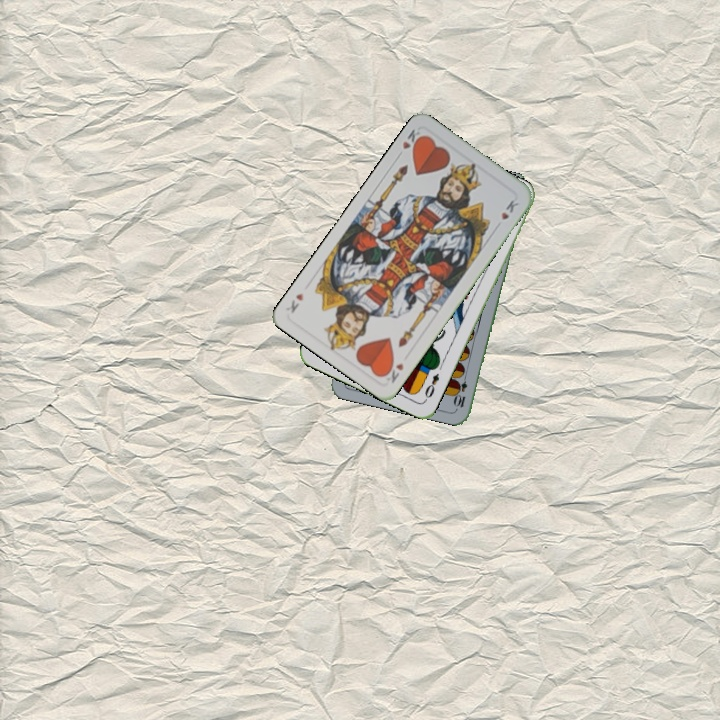E10: (452, 369, 470, 410)
EO: (421, 369, 442, 404)
HK: (393, 125, 427, 161), (379, 358, 406, 386)
